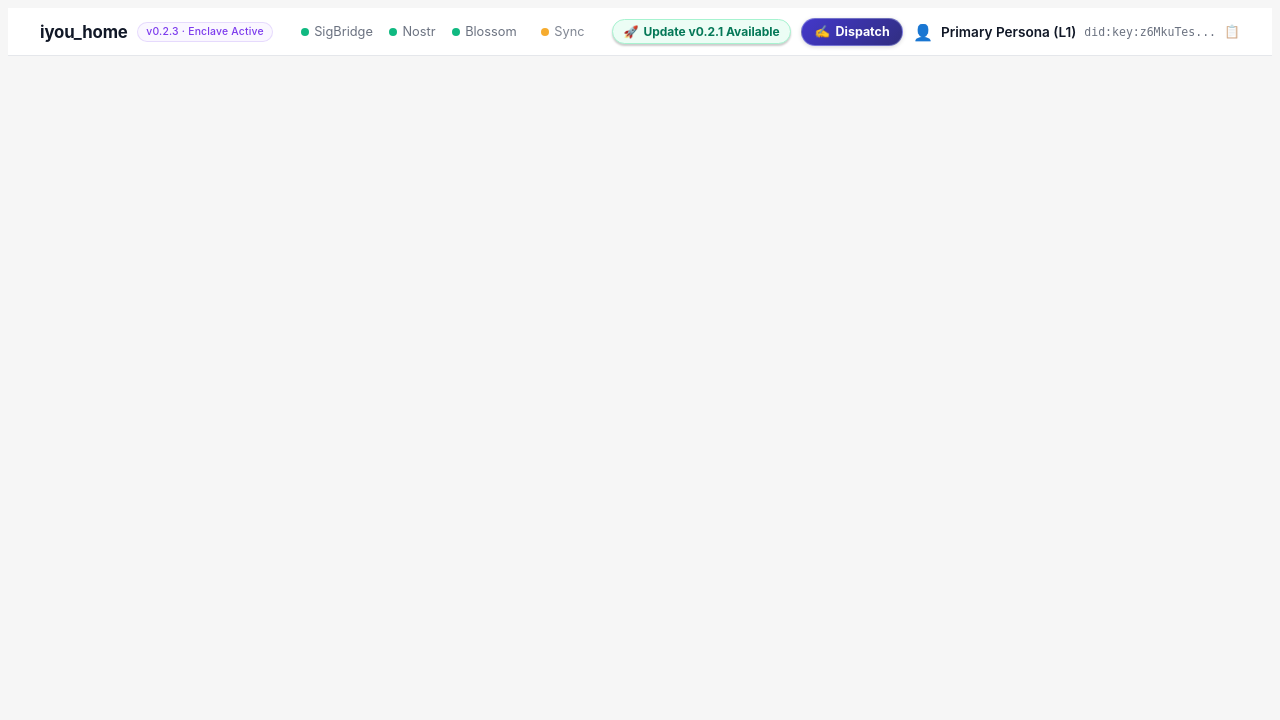
Scenario: GlobalStatusBar Update Notification Phase 12 › renders non-intrusive update badge in header and opens vetting modal on click
The image size is (1280, 720).
Click the text "Update v0.2.1 Available".
click(712, 32)  # box [643,24,780,39]
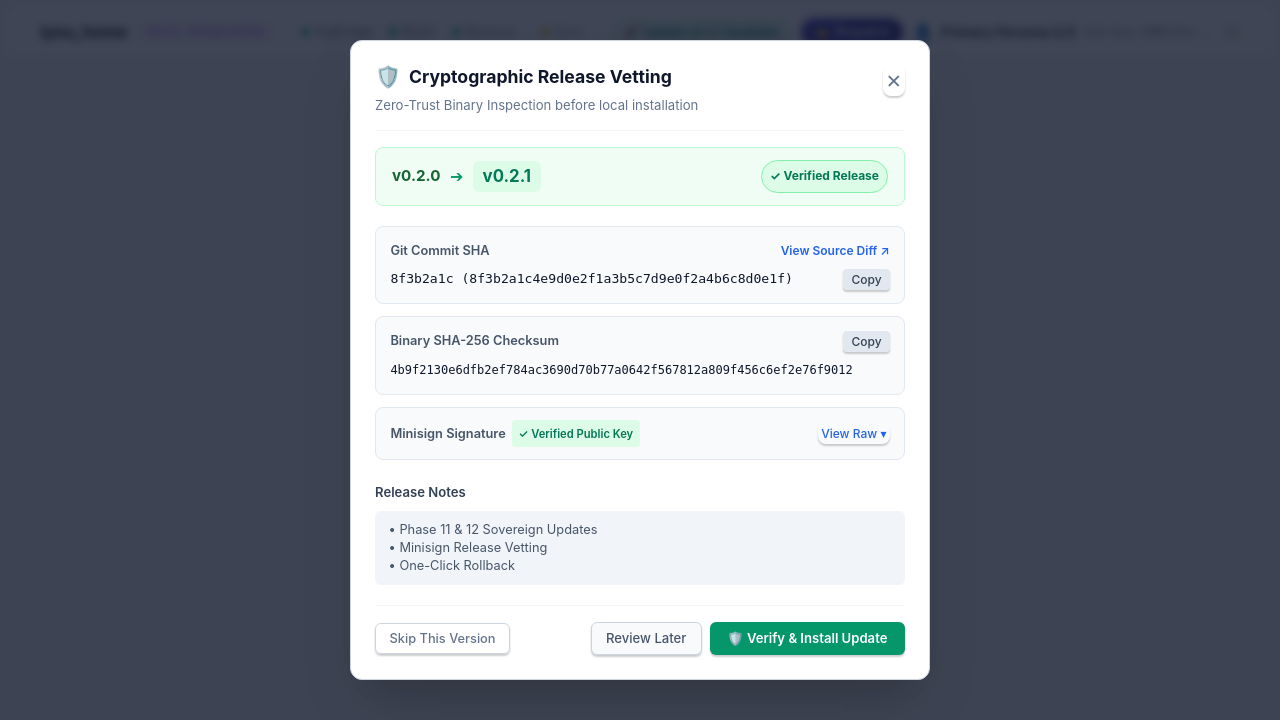
Expected: the text "Cryptographic Release Vetting" is shown, [409,65,672,89]
